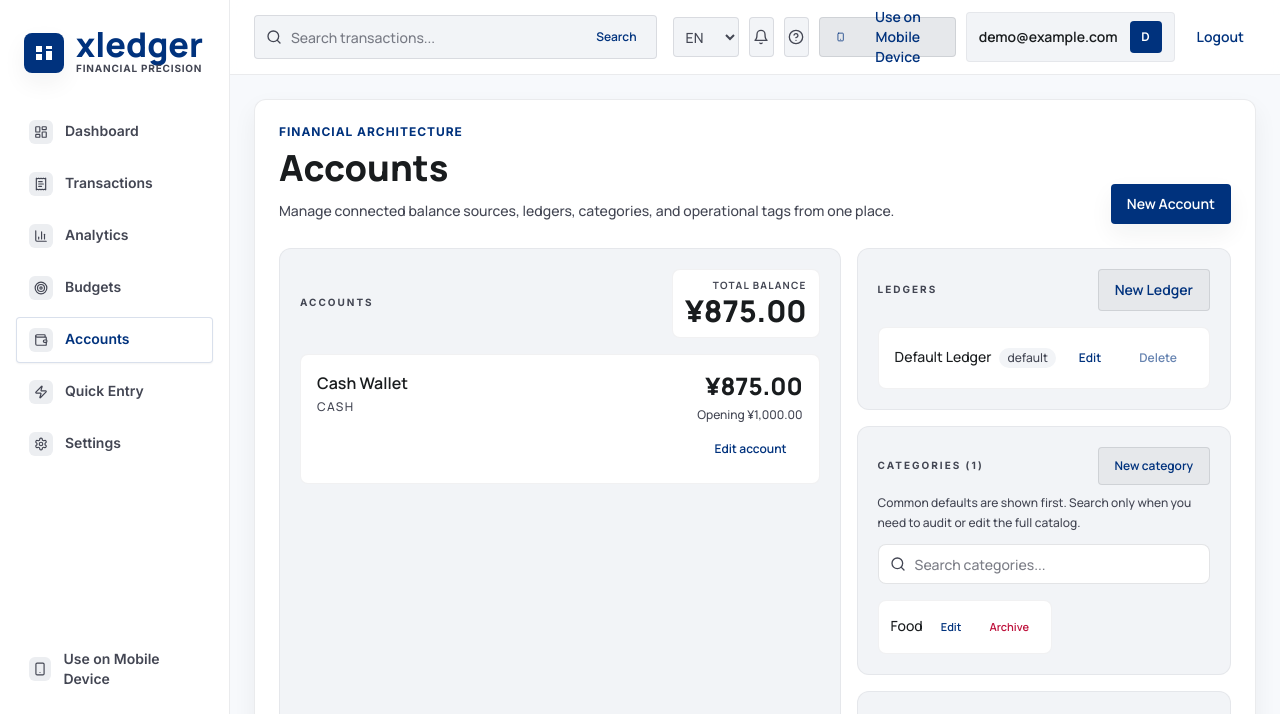
Test: accounting settings domain › lets users create, rename, and archive categories from accounts
The image size is (1280, 714).
Expected: the text "Food" is shown, [891,617,923,637]
Click the button "New category".
click(1154, 466)  # box [1098,447,1210,485]
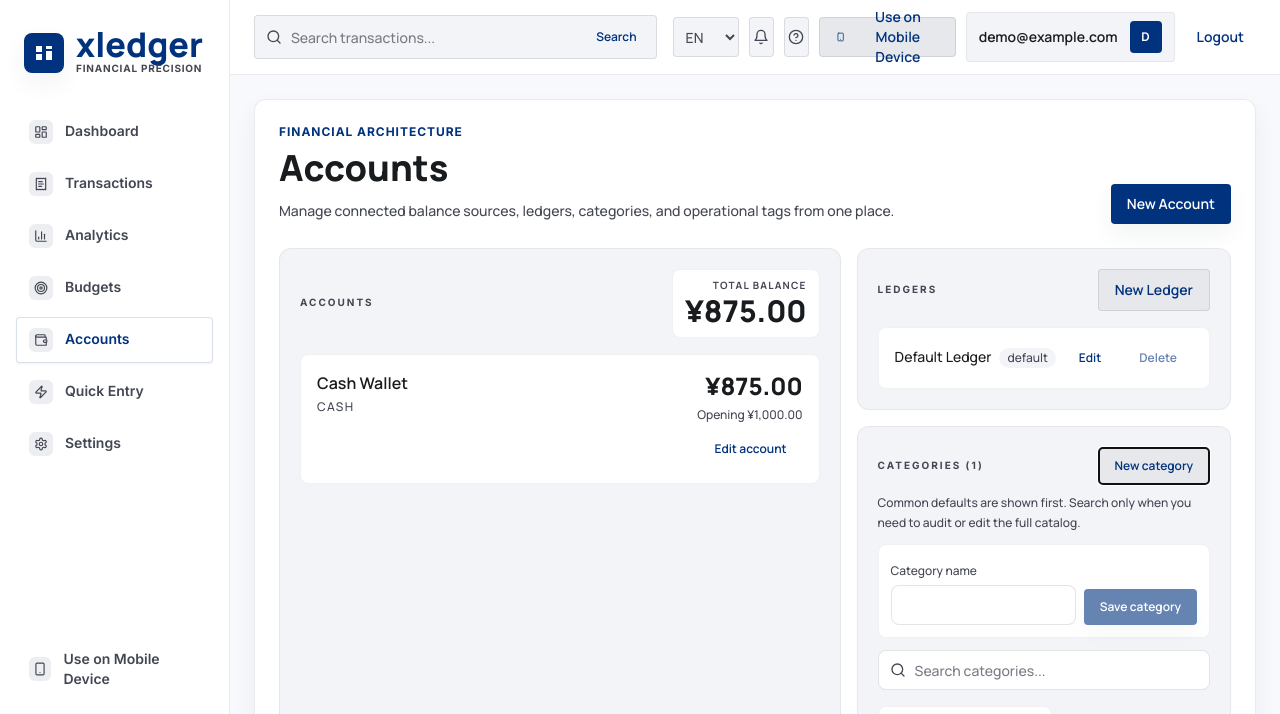
Type "Subscriptions" into the field labelled "Category name".
click(983, 605); type("Subscriptions")  # box [891,585,1076,625]
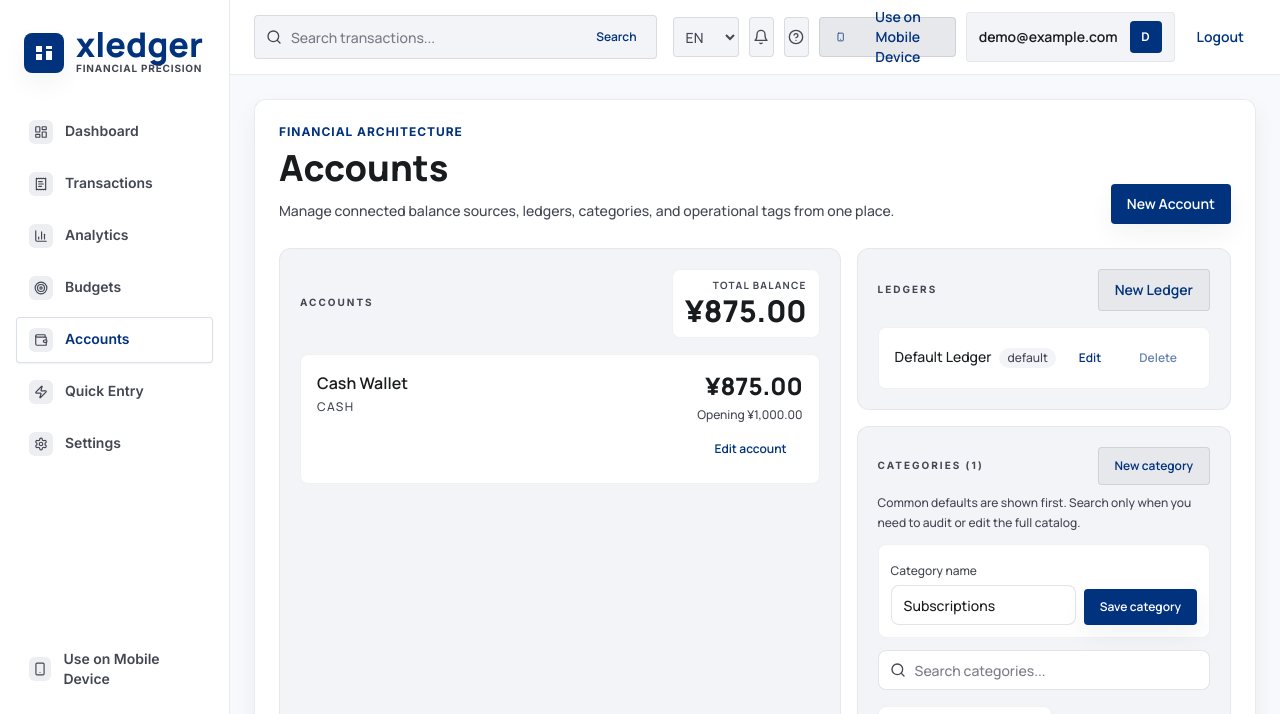
Click the button "Save category".
click(1140, 607)  # box [1084,589,1197,625]
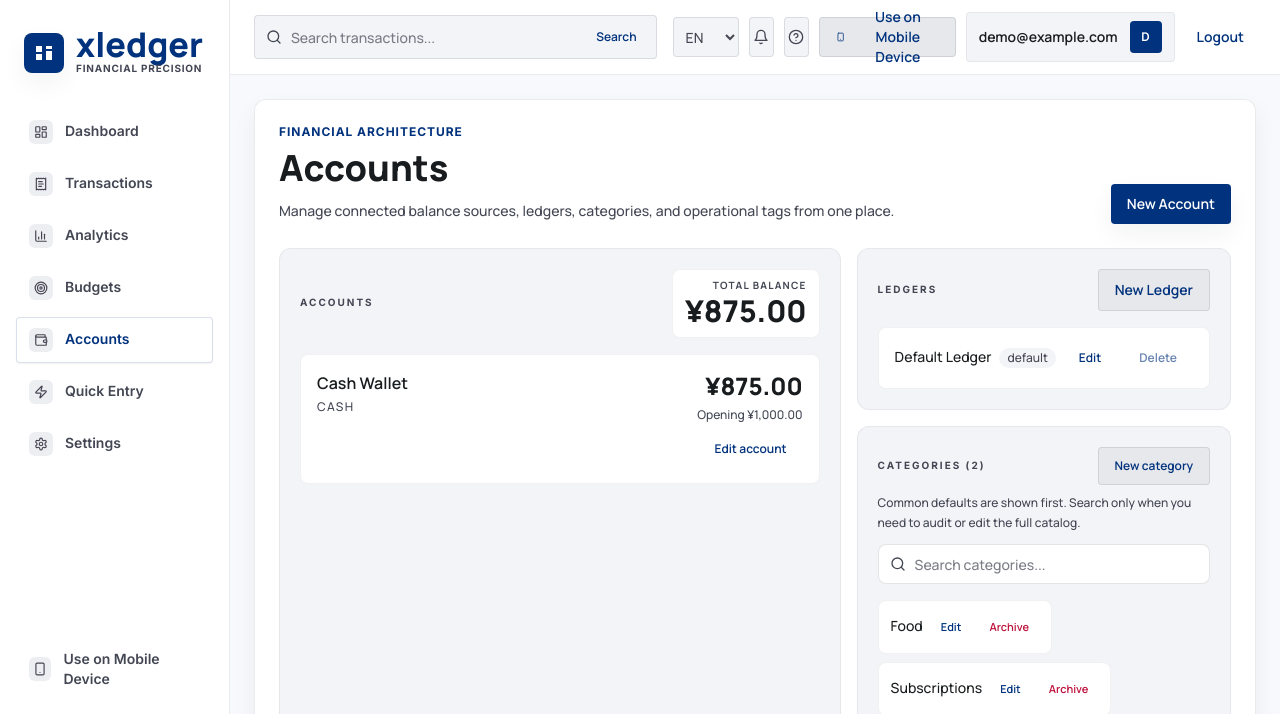
Click the button with aria-label "rename category food".
click(951, 627)  # box [931,609,971,645]
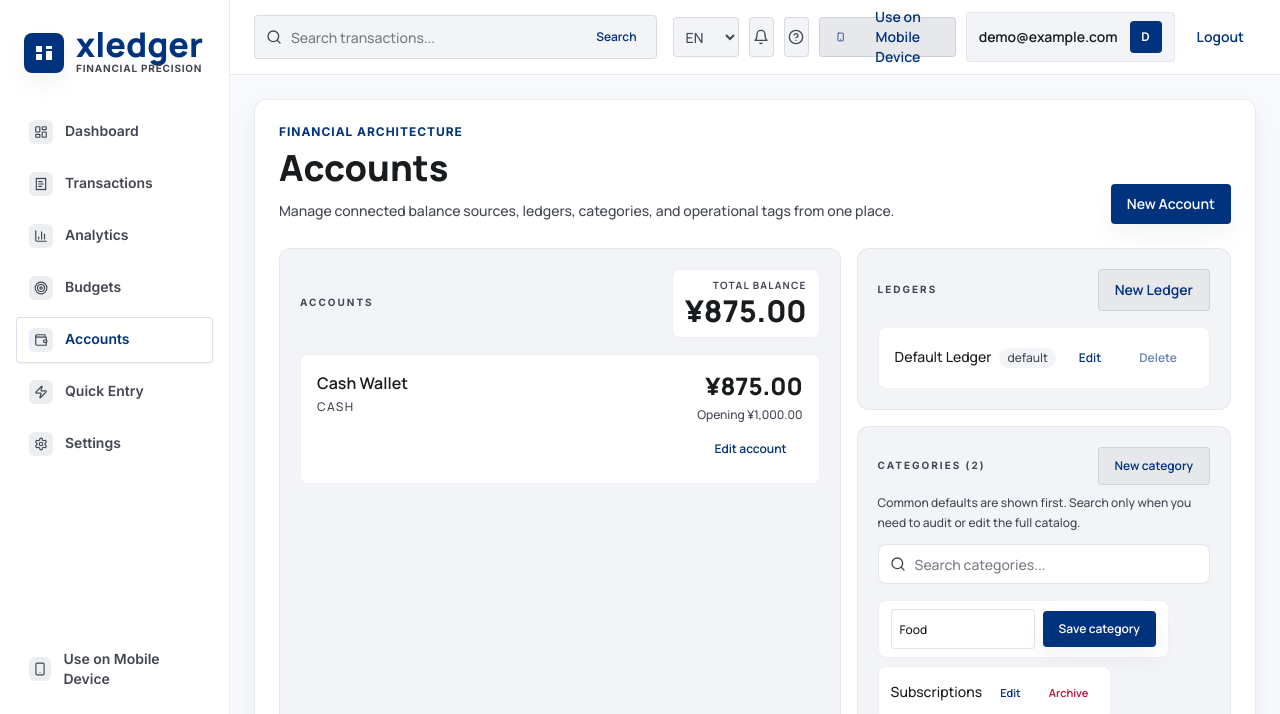
Replace the text in the field named "category name" with "Dining Out" at (963, 629), box [891,609,1035,649]
Click the button "Save category".
click(1099, 629)  # box [1043,611,1156,647]
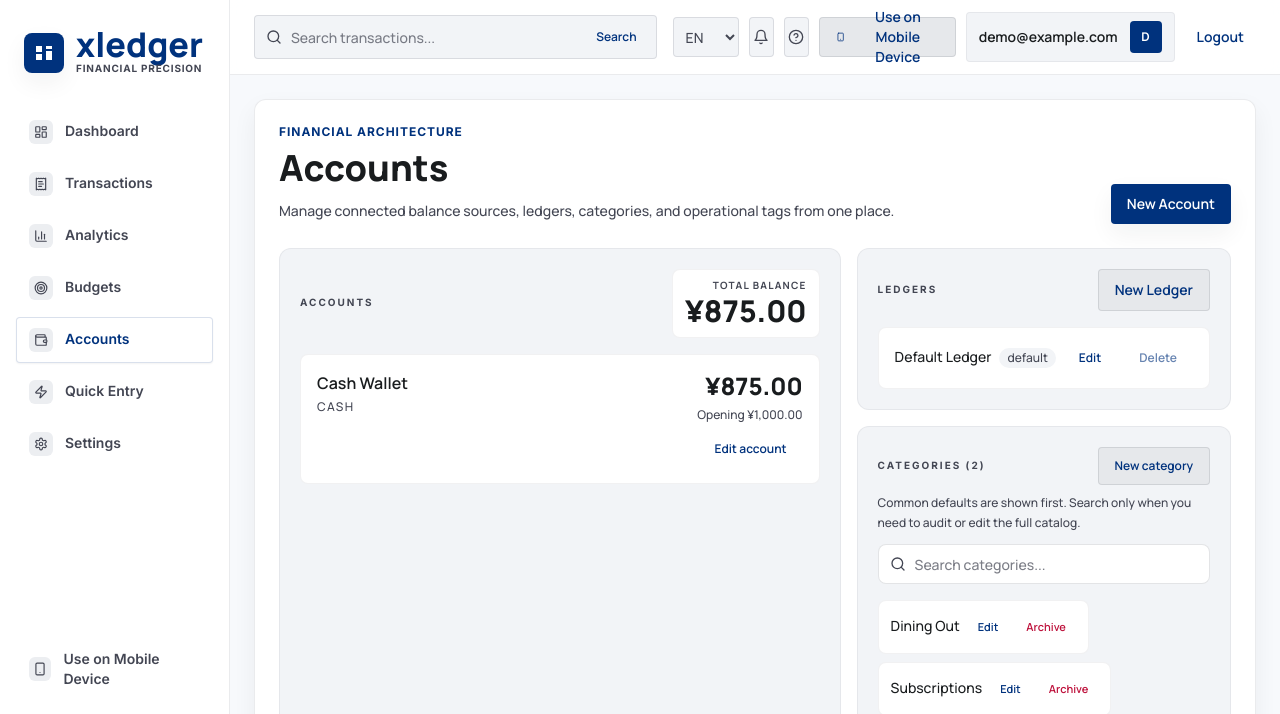
Click the button with aria-label "archive category dining out".
click(1046, 627)  # box [1016,609,1076,645]
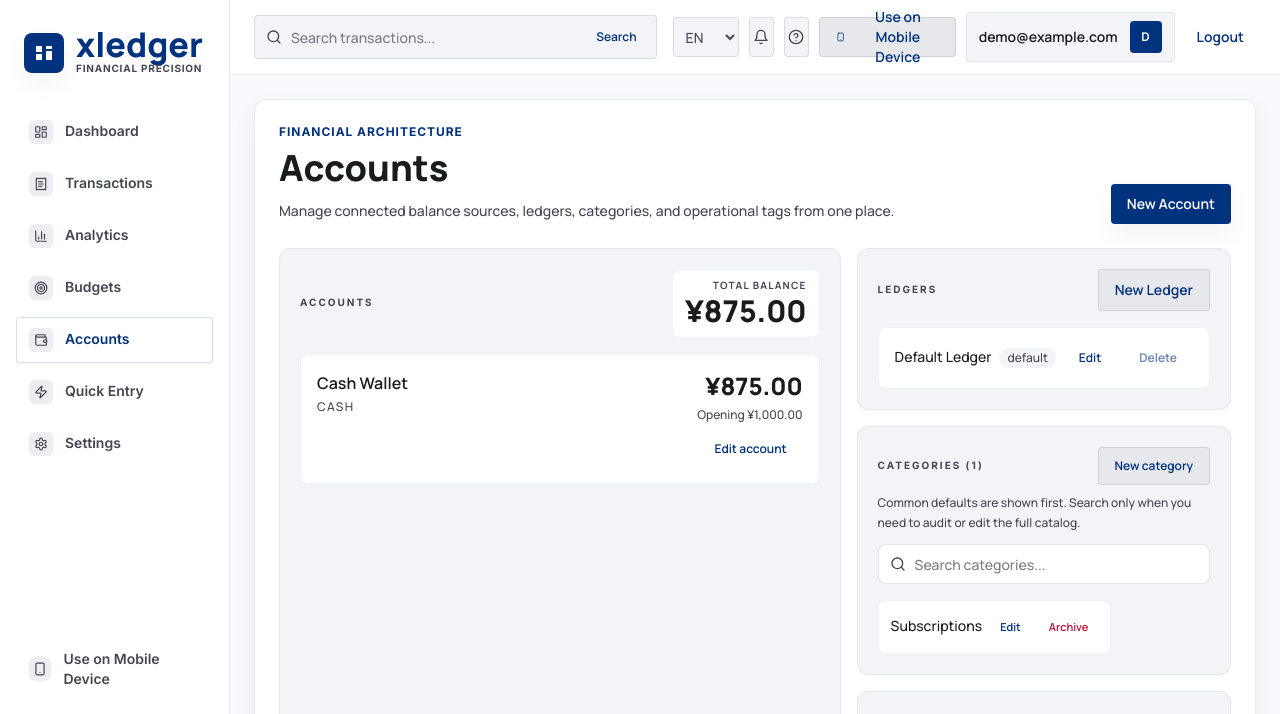
Now the text "Dining Out" is gone
